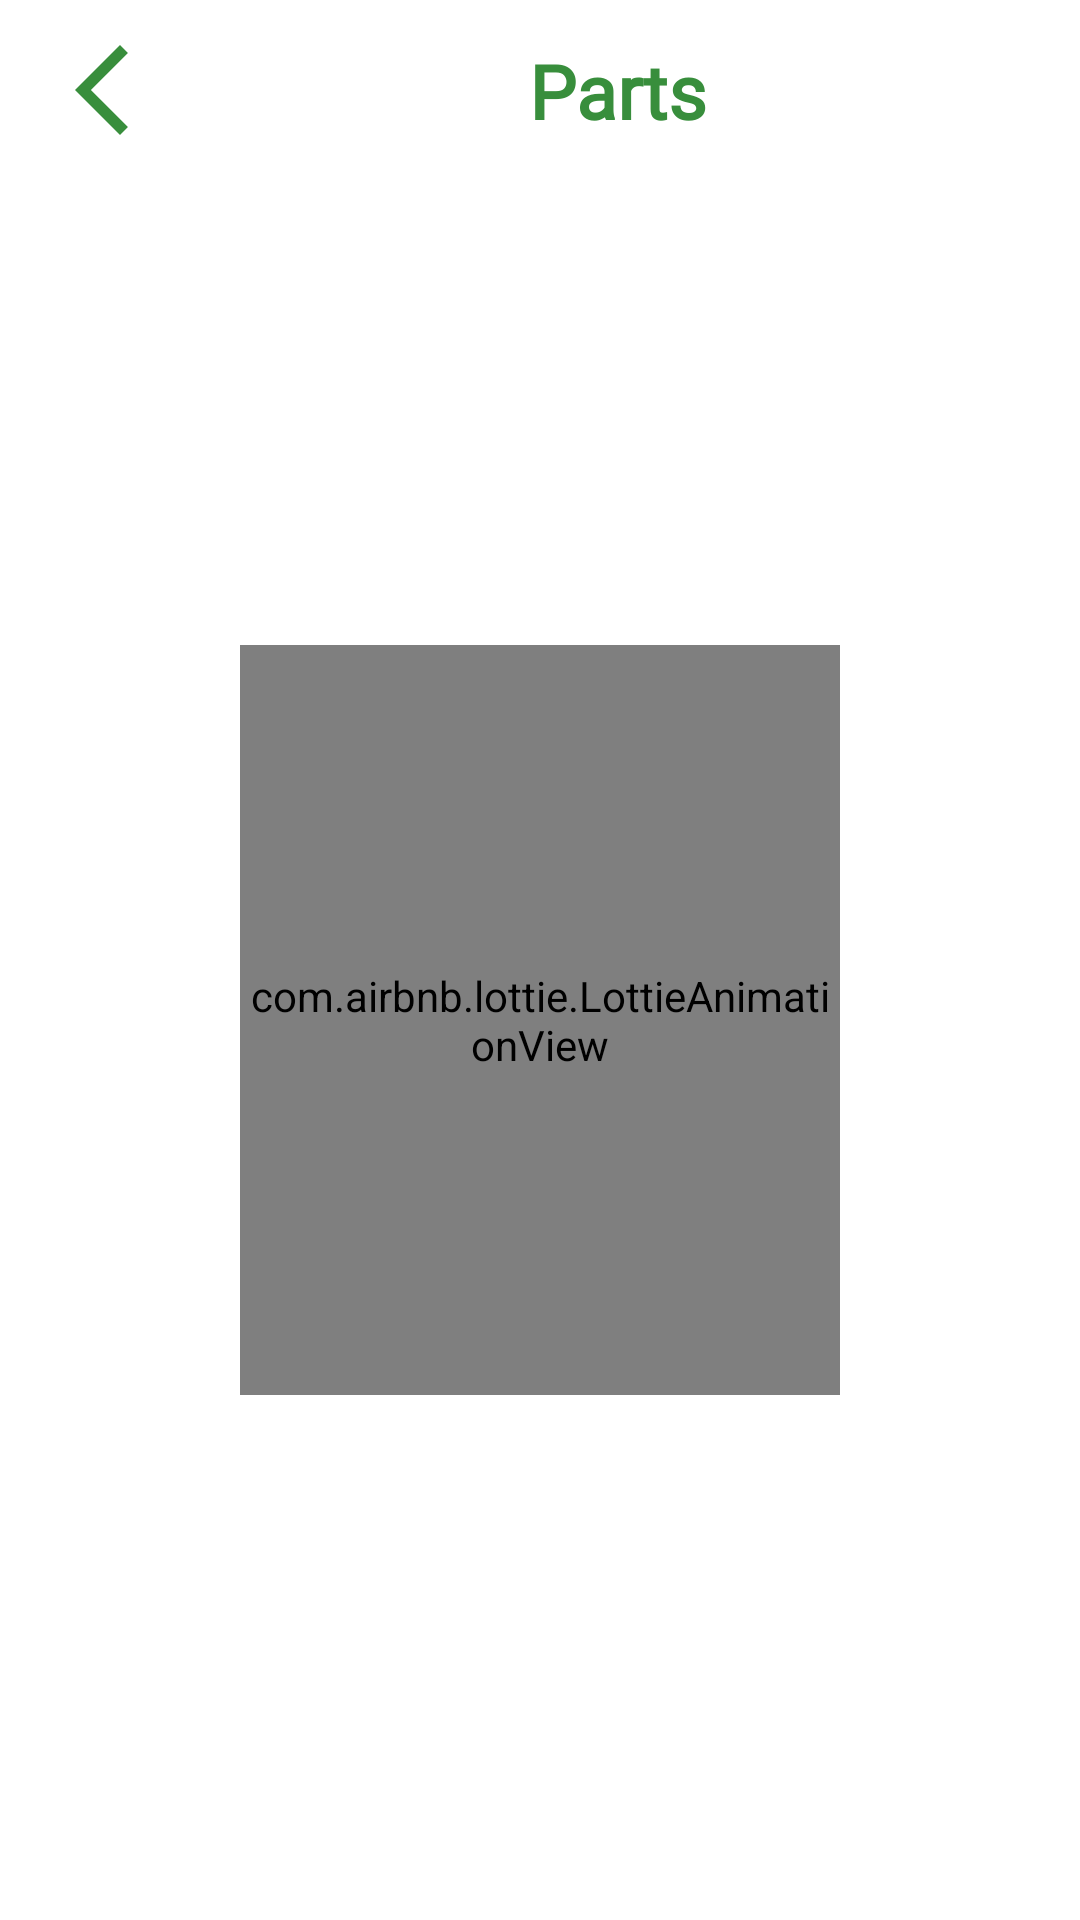

Icon bounding boxes for this 1080 x 1920 phone screenshot, format (x1, y1, x2, y2):
back: (75, 45, 128, 135)
